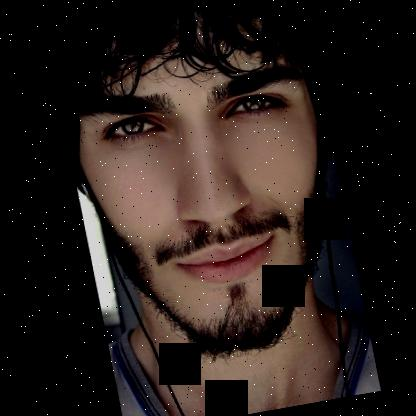Male: (54, 0, 359, 371)
